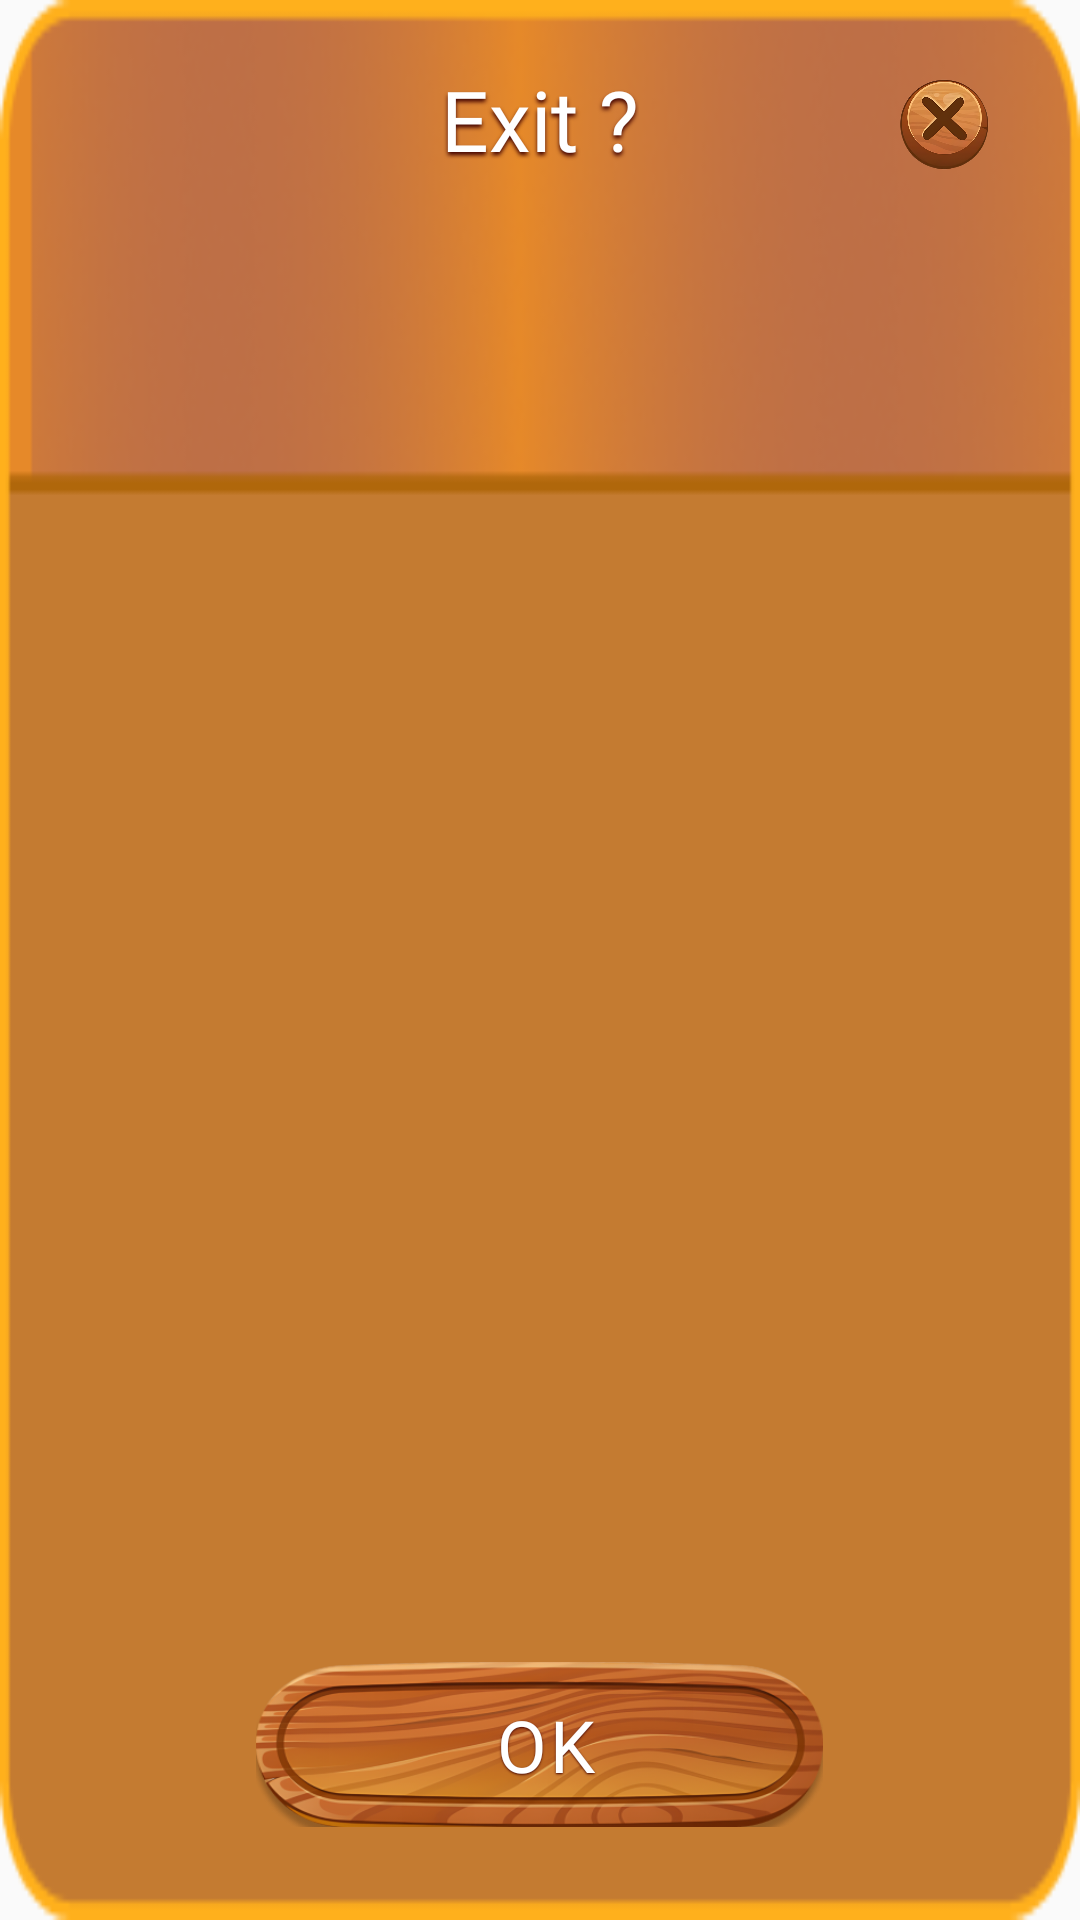

Icons on this 1080×1920 Android screen, each with the point to tap as (x,y):
popup close: (944,124)
